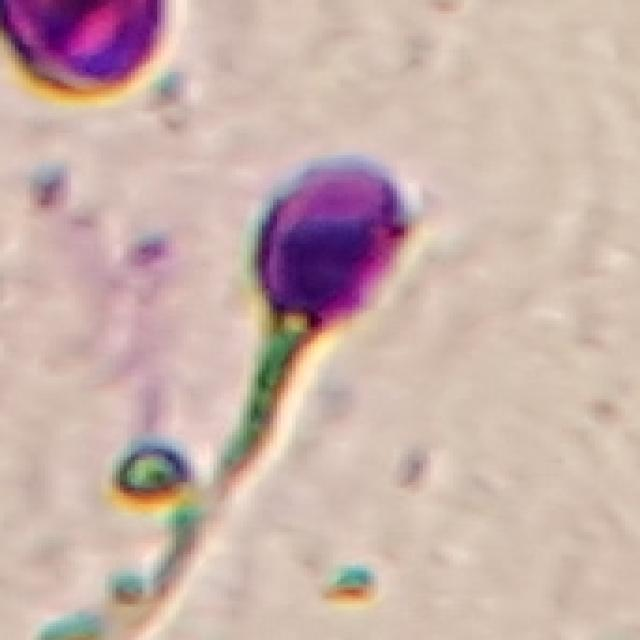normal sperm: (246, 162, 415, 419)
